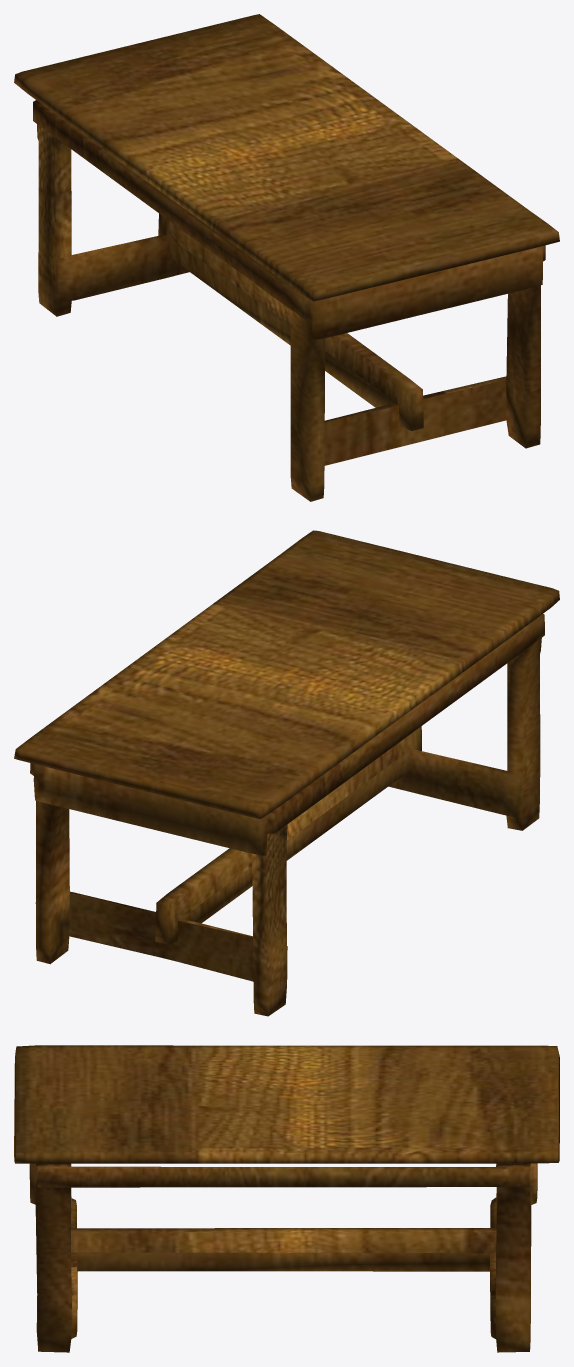
The picture shows the model from 3 angles, top to bottom: view 1: azimuth 30°, elevation 25°; view 2: azimuth 150°, elevation 25°; view 3: azimuth 270°, elevation 25°; orthographic projection. The views are drawn at different scales.
Visible parts, largest first — view 1: RetopoGroup1; view 2: RetopoGroup1; view 3: RetopoGroup1.
Part boxes in pixels (x1,y1,x2,y2): RetopoGroup1: (14, 14, 559, 501); RetopoGroup1: (14, 530, 559, 1016); RetopoGroup1: (14, 1045, 559, 1352).
Size of the model in its own units: 1.15 by 0.9801 by 2.41.
1 material, 1 textured.
